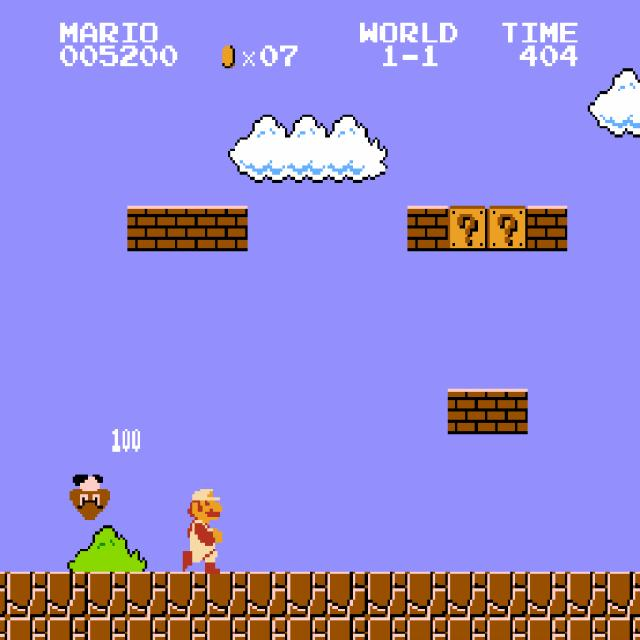brick_block: (127, 206, 168, 251), (167, 206, 208, 251), (207, 206, 248, 251), (407, 206, 448, 251), (447, 389, 488, 434), (487, 389, 528, 434), (527, 206, 568, 251)
fire_mario: (180, 480, 223, 574)
mystery_block: (447, 206, 488, 251), (487, 206, 528, 251)
undestructible_block: (7, 572, 48, 617), (47, 572, 88, 617), (87, 572, 128, 617), (127, 572, 168, 617), (167, 572, 208, 617), (207, 572, 248, 617), (247, 572, 288, 617), (287, 572, 328, 617), (327, 572, 368, 617), (367, 572, 408, 617), (407, 572, 448, 617), (447, 572, 488, 617), (487, 572, 528, 617), (527, 572, 568, 617), (567, 572, 608, 617), (607, 571, 640, 617), (7, 617, 48, 640), (47, 617, 88, 640), (87, 617, 128, 640), (127, 617, 168, 640), (167, 617, 208, 640), (207, 617, 248, 640), (247, 617, 288, 640), (287, 617, 328, 640), (327, 617, 368, 640), (367, 617, 408, 640), (407, 617, 448, 640), (447, 617, 488, 640), (487, 617, 528, 640), (527, 617, 568, 640), (567, 617, 608, 640), (607, 617, 640, 639), (0, 572, 7, 617), (0, 617, 7, 640)
